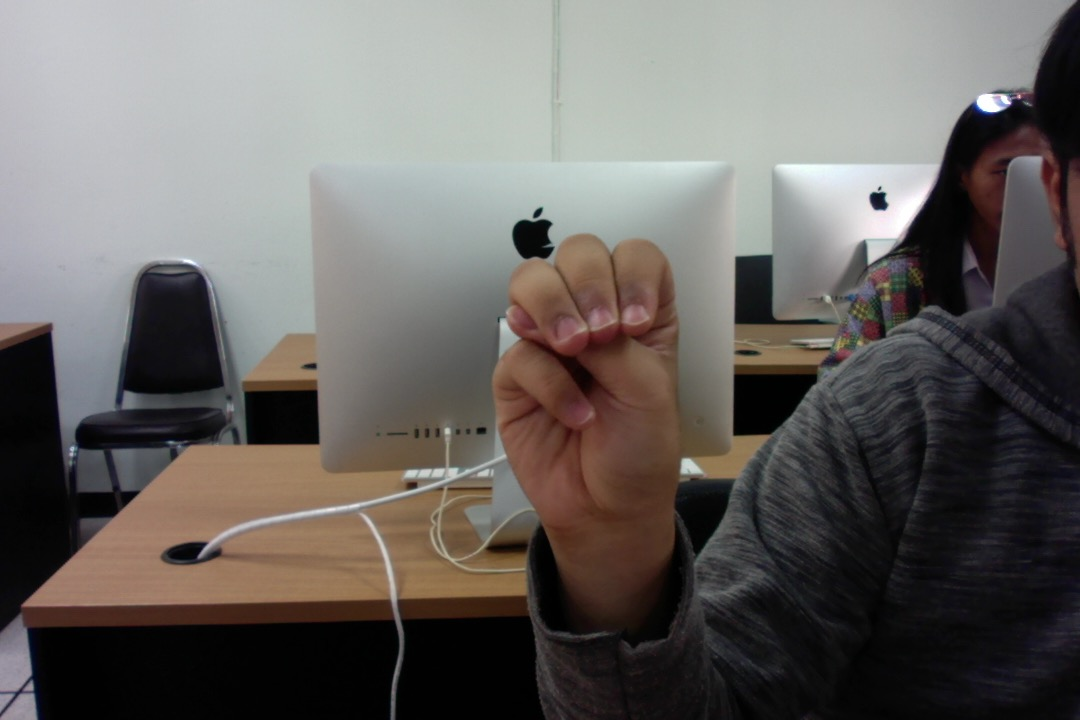mor: (487, 229, 687, 540)
